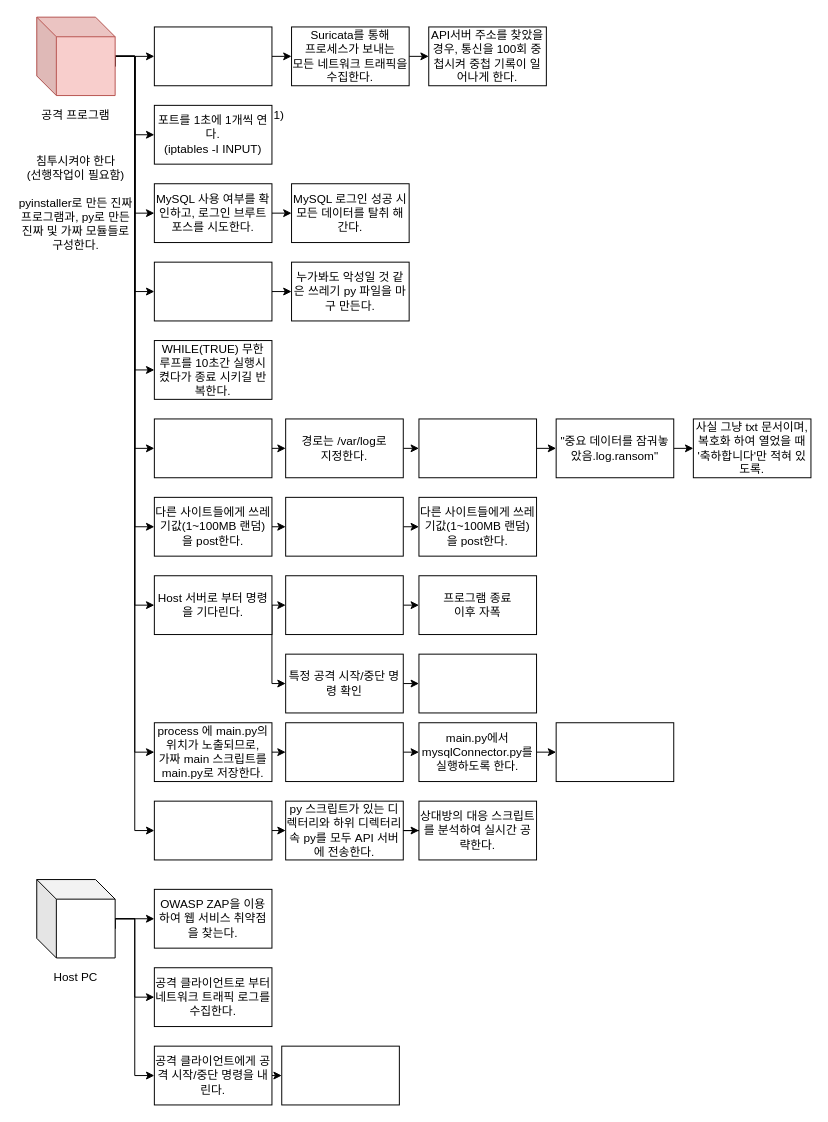
Some shapes in this 828 by 1122 pixel diagram are drawn without their labels. Here are the shapes that lost their labels. From the top down, the centre of each, then its label:
pixel 212 56: 기존 프로그램을 제외한 네트워크 통신을 잡는 룰을 설정한다.
pixel 212 291: 누가봐도 악성일 것 같은 쓰레기 bin 파일을 마구 만든다.
pixel 212 448: 랜섬웨어를 퍼뜨리되, 미리 생성한 파일만 대상으로 한다. (암호 분석에 시간 허비됨)
pixel 477 448: 감염 파일 이름을 도전정신을 불러일으키도록 변경한다.
pixel 344 526: 매 8089번째 통신마다 HOST PC로 모아둔 로그를 전송한다.
pixel 344 605: Host 서버에서 동작 중지 명령 확인
pixel 477 683: 대상 공격 스레드 활성화/비활성화
pixel 344 752: 실제 main은 이름을 mysqlConnector.py로 설정한다.
pixel 614 752: 가짜 main.py 및 모듈 py들을 분산 저장함으로 써 추적을 힘들게 한다.
pixel 212 830: pstree -a 명령어를 통해 현재 실행 중인 py 스크립트를 모두 수집한다.
pixel 340 1075: 뜻을 알 수 없도록 0, 0, 0, 1, 1 이진 표기법을 쓰되, 암호화 통신도 병행한다.
